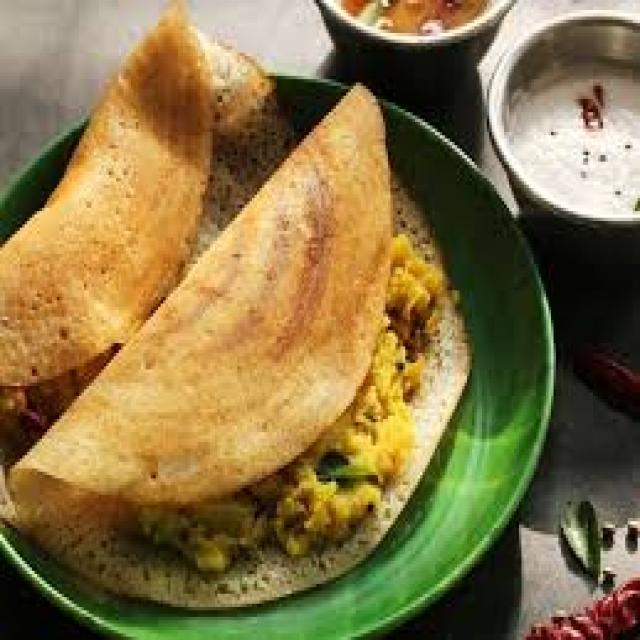DOSA: (14, 82, 469, 615), (0, 4, 296, 387)
